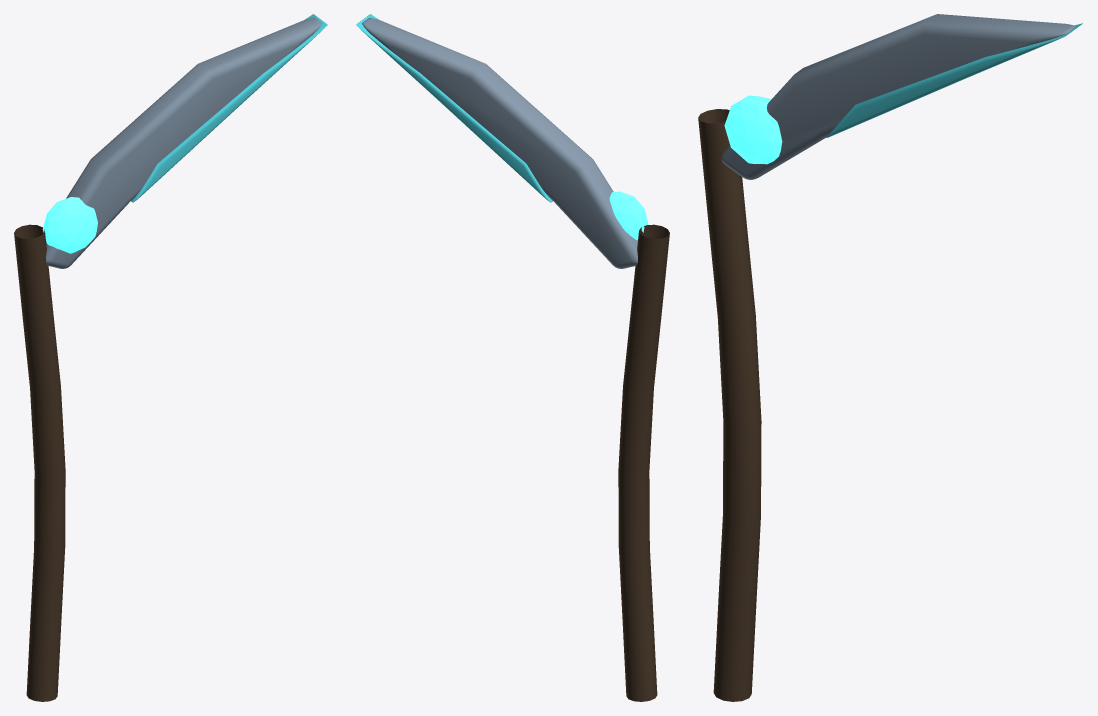
File: scythe.glb
3 views of the same model, side by side, from view 1: azimuth 30°, elevation 25°; view 2: azimuth 150°, elevation 25°; view 3: azimuth 330°, elevation 25° (orthographic). The views are drawn at different scales.
Parts seen in each view (by area): view 1: SCYTHE_SHAFT_SECONDARY, SCYTHE_BLADE_PRIMARY, SCYTHE_EDGE_ACCENT, SCYTHE_EYE_EMISSIVE; view 2: SCYTHE_BLADE_PRIMARY, SCYTHE_SHAFT_SECONDARY, SCYTHE_EDGE_ACCENT, SCYTHE_EYE_EMISSIVE; view 3: SCYTHE_SHAFT_SECONDARY, SCYTHE_BLADE_PRIMARY, SCYTHE_EDGE_ACCENT, SCYTHE_EYE_EMISSIVE.
Boxes of the visible parts, x1,y1,x2,y2 form: SCYTHE_SHAFT_SECONDARY: [14, 224, 65, 701]; SCYTHE_BLADE_PRIMARY: [46, 17, 321, 268]; SCYTHE_EDGE_ACCENT: [131, 14, 327, 202]; SCYTHE_EYE_EMISSIVE: [42, 197, 97, 253]; SCYTHE_BLADE_PRIMARY: [362, 17, 637, 268]; SCYTHE_SHAFT_SECONDARY: [618, 224, 669, 701]; SCYTHE_EDGE_ACCENT: [356, 14, 552, 202]; SCYTHE_EYE_EMISSIVE: [609, 191, 648, 240]; SCYTHE_SHAFT_SECONDARY: [698, 109, 761, 701]; SCYTHE_BLADE_PRIMARY: [721, 14, 1076, 179]; SCYTHE_EDGE_ACCENT: [826, 23, 1082, 137]; SCYTHE_EYE_EMISSIVE: [724, 95, 782, 164].
Size of the model in its own units: 1.93 by 3.68 by 0.2375.
